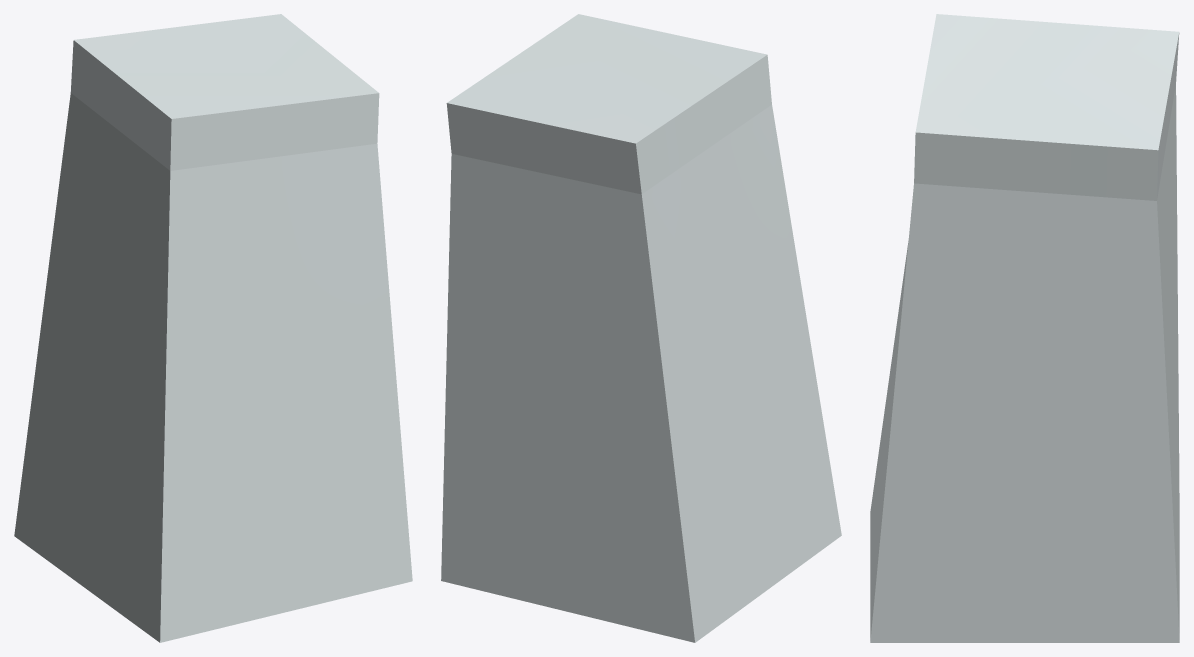
Rendered from Tree.007.fbx.
The picture shows the model from 3 angles, left to right: view 1: azimuth 30°, elevation 25°; view 2: azimuth 150°, elevation 25°; view 3: azimuth 270°, elevation 25°; orthographic projection. The views are drawn at different scales.
Visible parts, largest first — view 1: Tree.007; view 2: Tree.007; view 3: Tree.007.
Boxes of the visible parts, box(x1,y1,x2,y2) form: Tree.007: box(14, 14, 412, 642); Tree.007: box(441, 14, 841, 642); Tree.007: box(870, 14, 1179, 642).
Bounding box in the file's own units: 0.2985 × 0.5444 × 0.2933.
